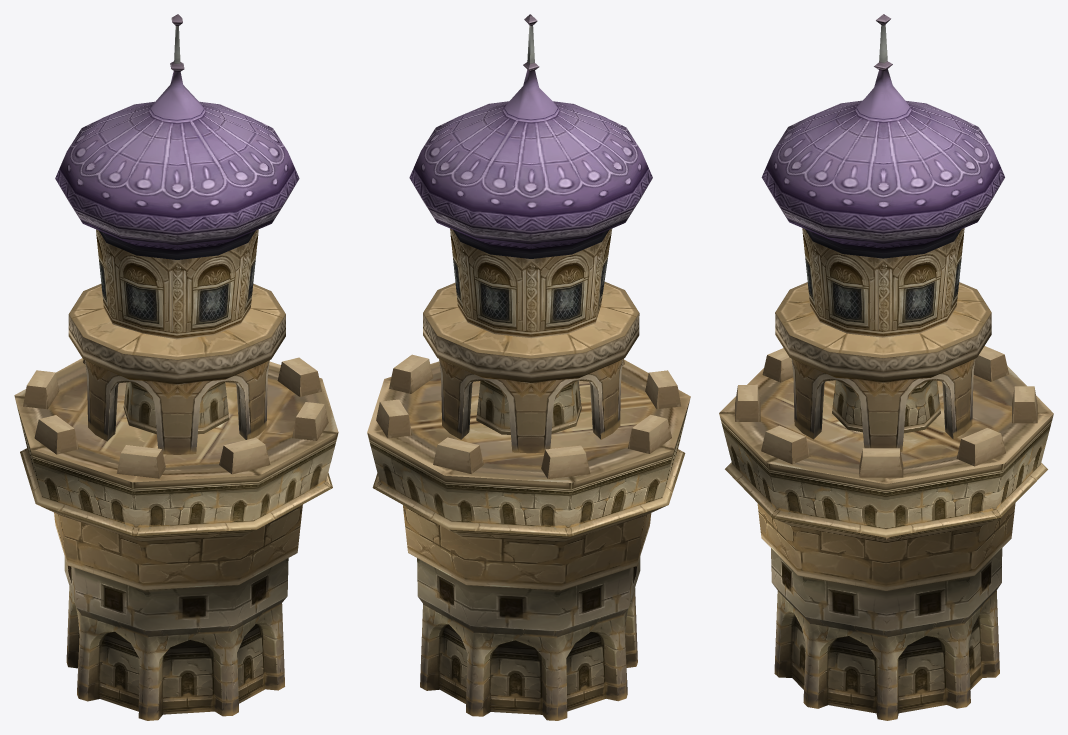
Rendered from lv7_house_4.FBX.
The picture shows the model from 3 angles, left to right: view 1: azimuth 30°, elevation 25°; view 2: azimuth 150°, elevation 25°; view 3: azimuth 270°, elevation 25°; orthographic projection.
Visible parts, largest first — view 1: lv7_house_4; view 2: lv7_house_4; view 3: lv7_house_4.
Boxes of the visible parts, x1=… form: lv7_house_4: x1=14, y1=14, x2=338, y2=720; lv7_house_4: x1=367, y1=14, x2=690, y2=720; lv7_house_4: x1=719, y1=14, x2=1053, y2=720.
Size of the model in its own units: 587 by 1275 by 587.
